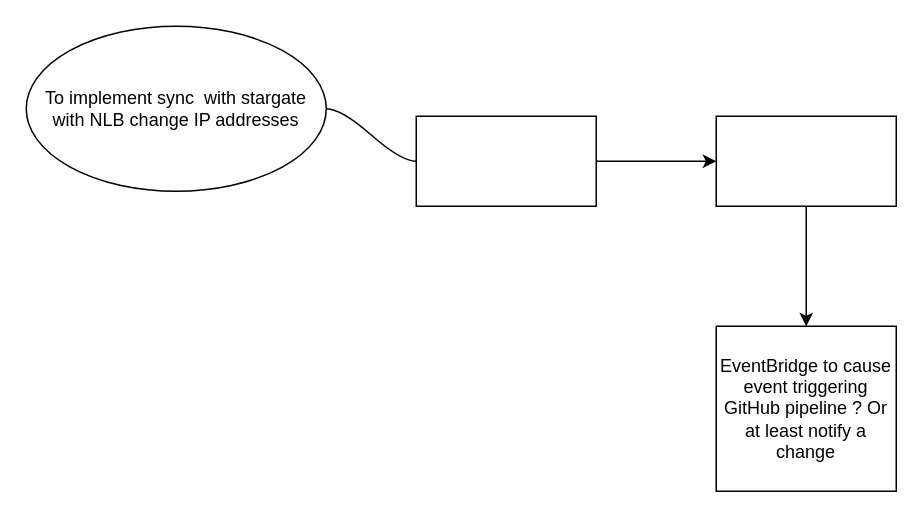
Some shapes in this 923 by 518 pixel diagram are drawn without their labels. Here are the shapes that lost their labels. From the top down, the centre of each, then its label:
the point at 505,160: Check the option with Lambda
the point at 805,160: Update dynamodb
